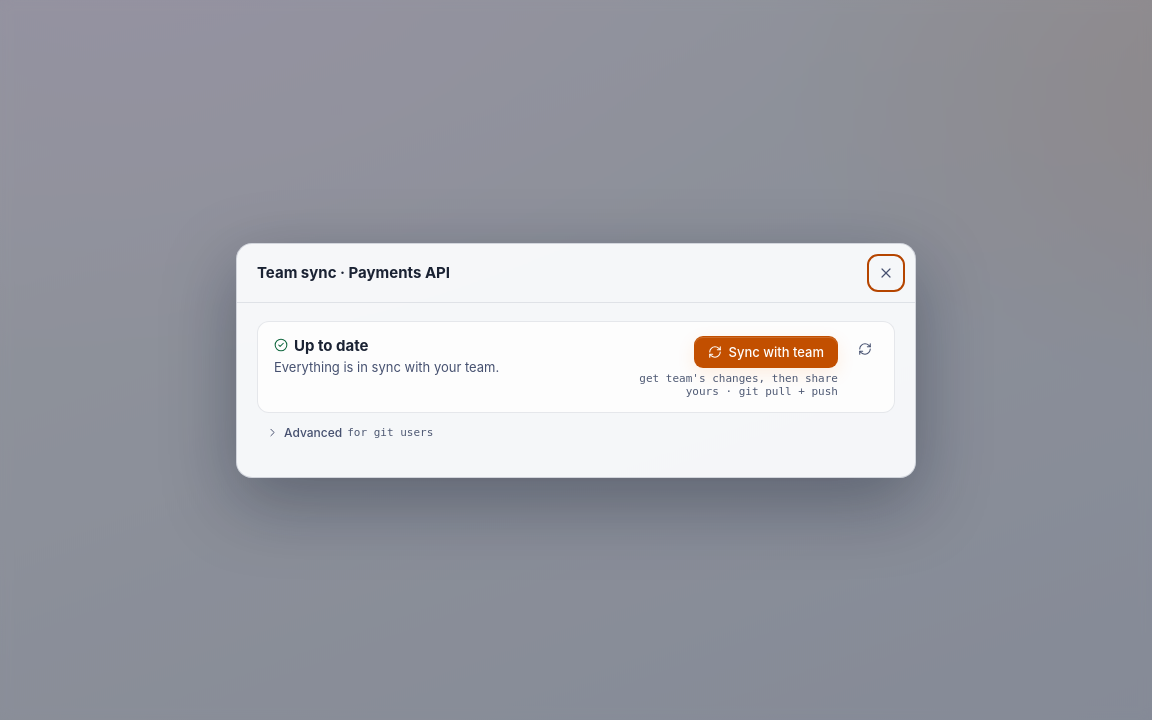
Test: Errors stay on screen with what to do › explains a sign-in failure with steps and links
Click the button "Sync with team": coordinates (766, 352) top-left (694, 336), bottom-right (838, 368)
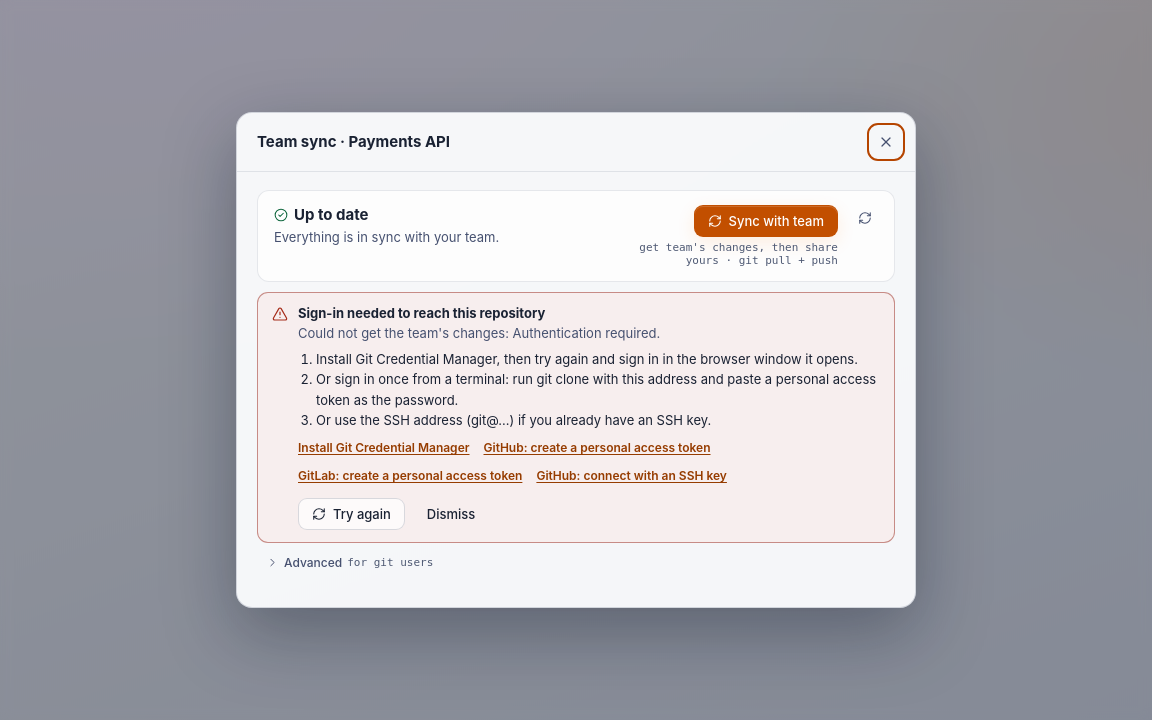
Now the text "Sign-in needed to reach this repository" shows "Install Git Credential Manager", box top-left (298, 436), bottom-right (470, 460)
Now the button "GitHub: create a personal access token" is shown, box top-left (484, 436), bottom-right (710, 460)
Now the button "Try again" is shown, box top-left (298, 498), bottom-right (405, 530)
